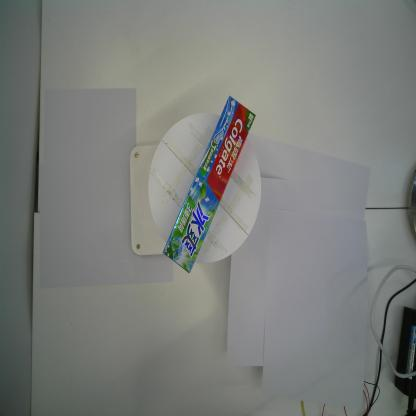Personal Hygiene: (163, 95, 256, 274)
